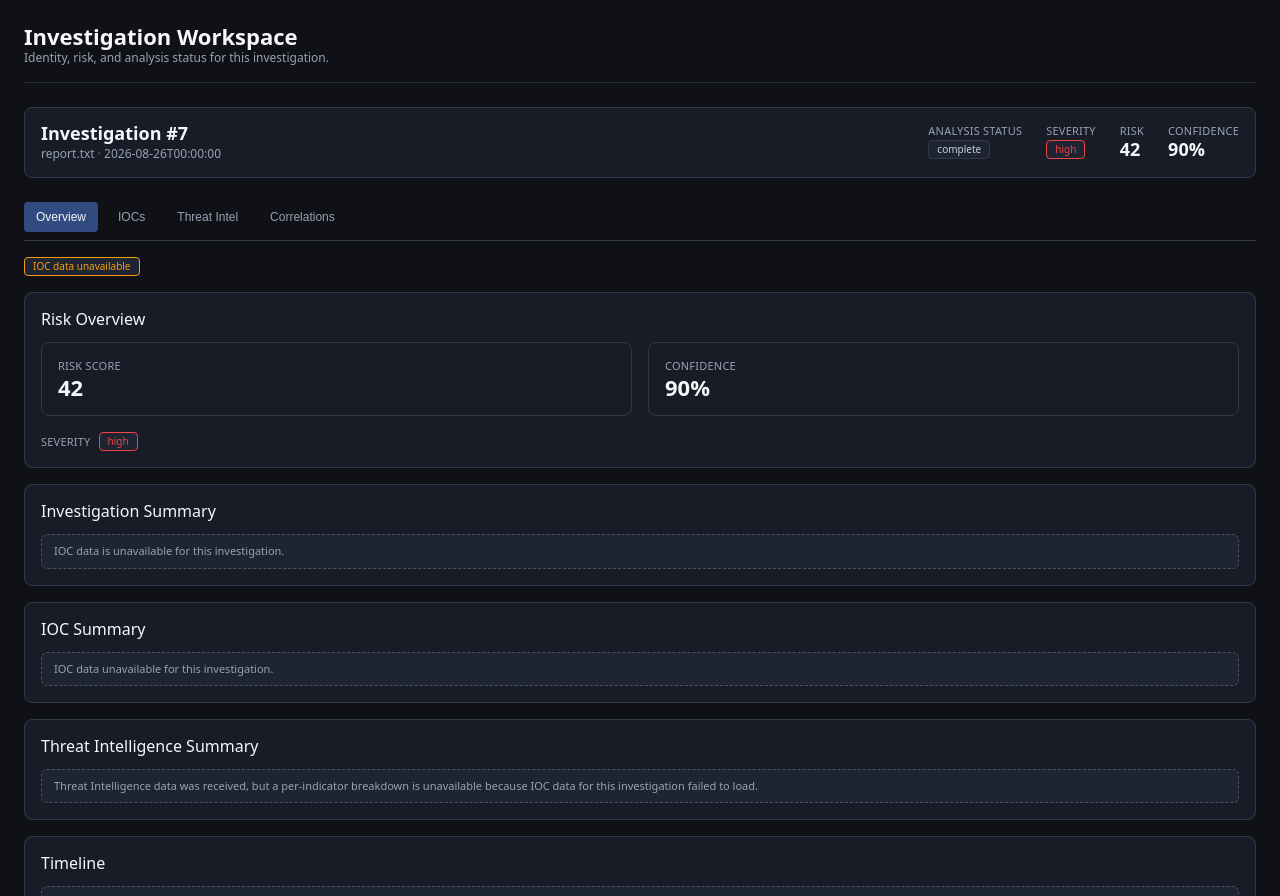
Scenario: InvestigationWorkspacePage › IOCs tab (Part 2A) › shows the honest unavailable state on the IOCs tab when IOC data failed to load
The image size is (1280, 896).
Click the tab "IOCs".
click(132, 217)  # box [106,202,157,232]
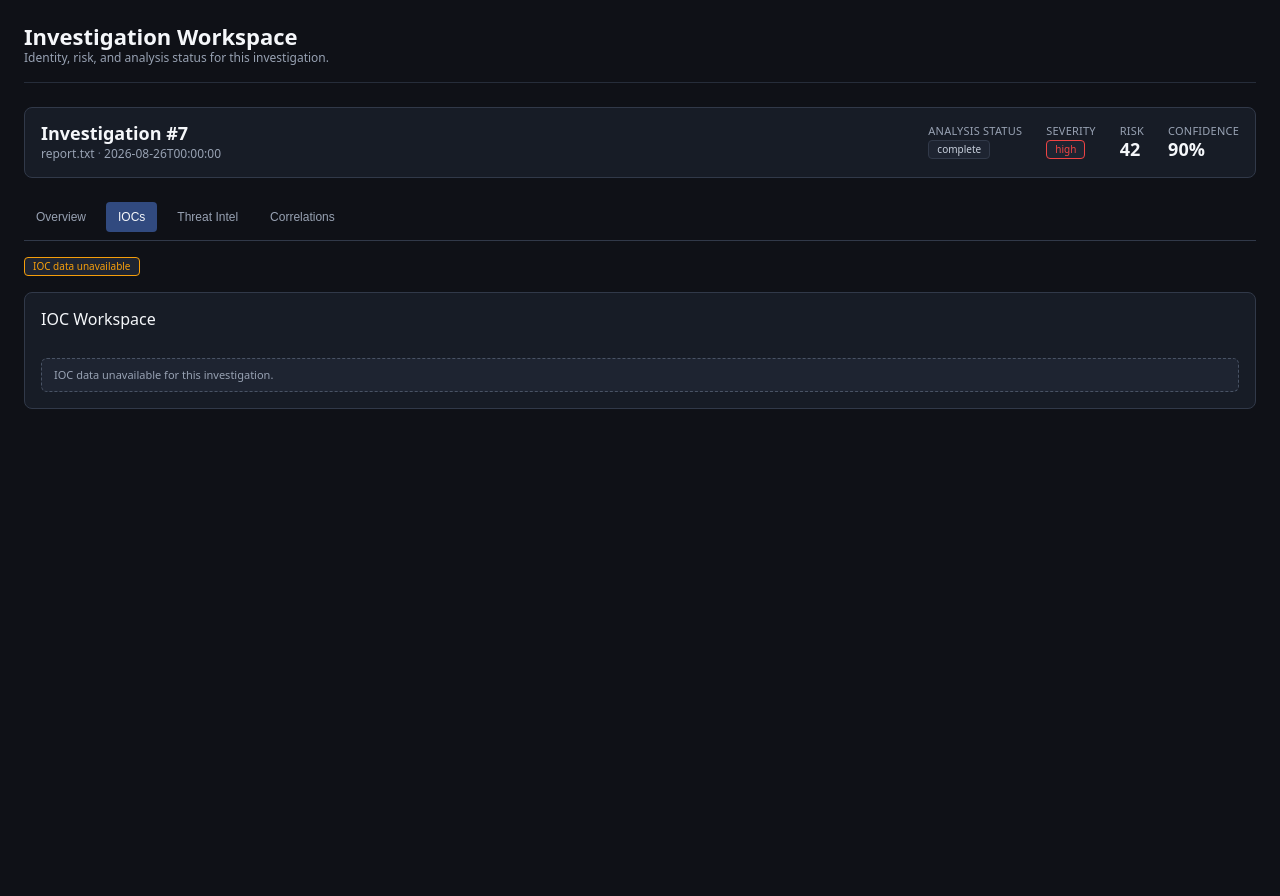
Now the element with class "investigation-ioc-workspace" shows "IOC data unavailable", box [54,367,273,382]
Now no elements with class "metric-card" are shown
